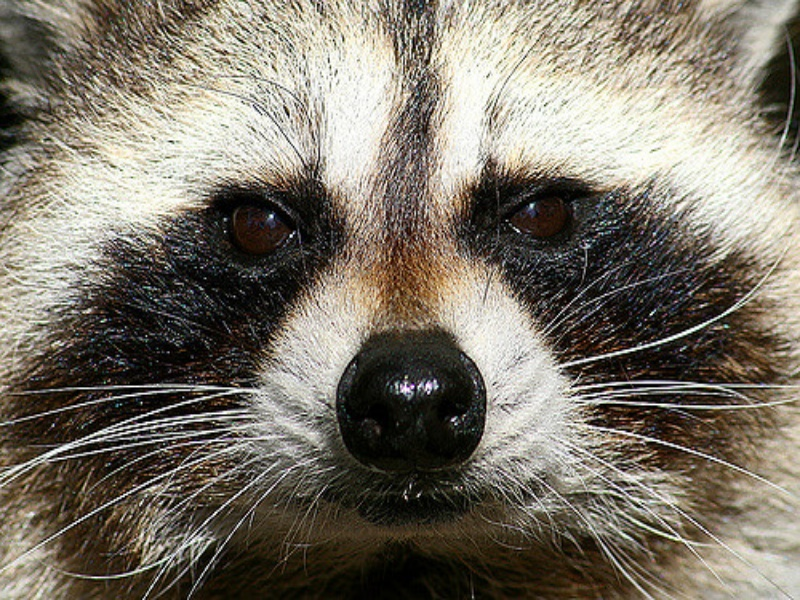raccoon: (3, 9, 795, 596)
